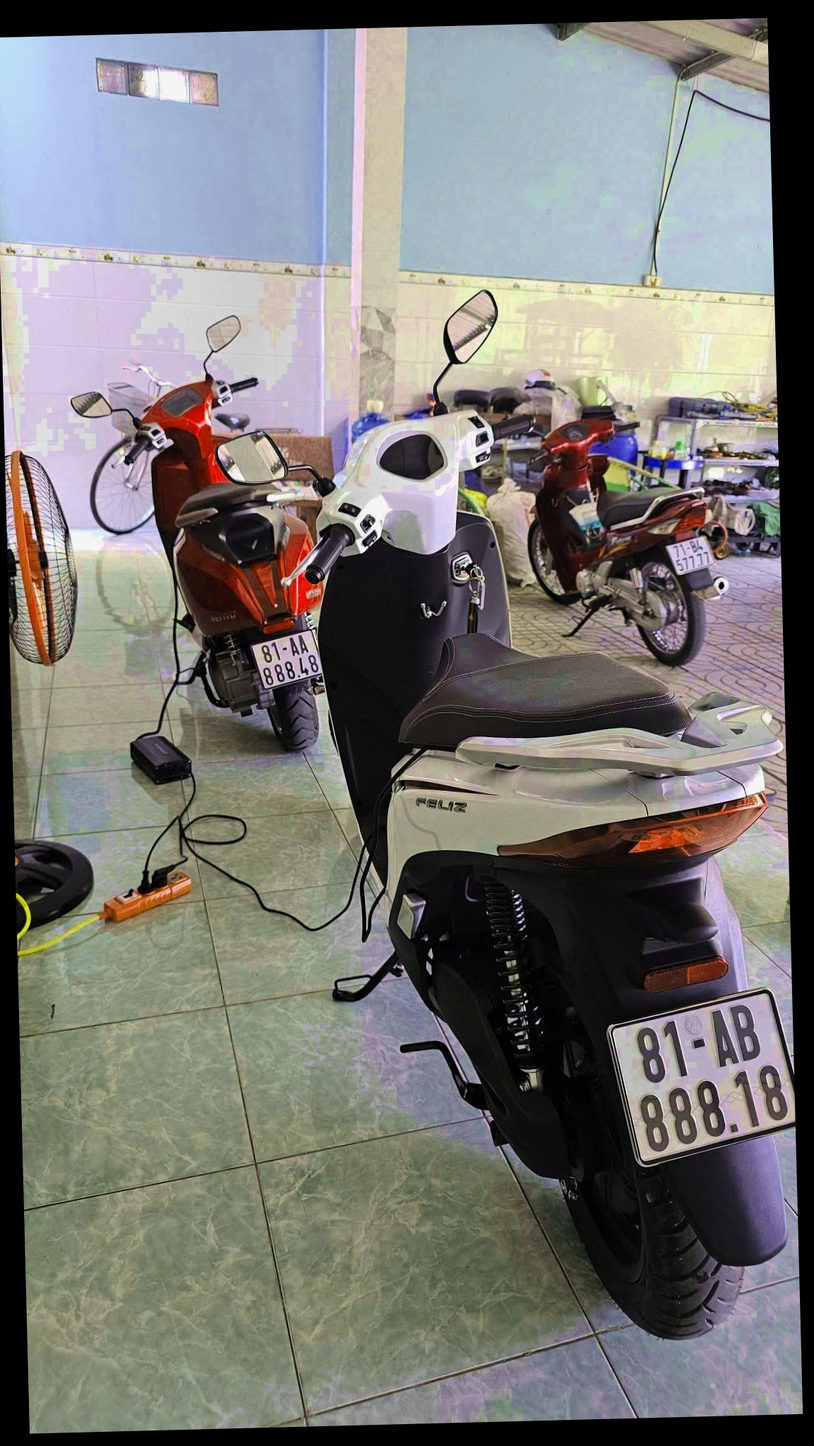Bien-so: (606, 1018, 809, 1198), (227, 641, 302, 709), (687, 550, 734, 596)
